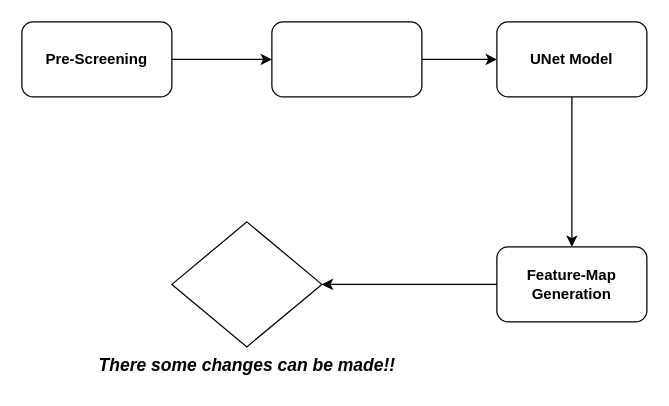
Image size: 669x406. Some labels were removed from this diagram. Each missing label, with the centre of its shape:
Denoising: the point at 346,59
Need Physician advice!?: the point at 246,284
